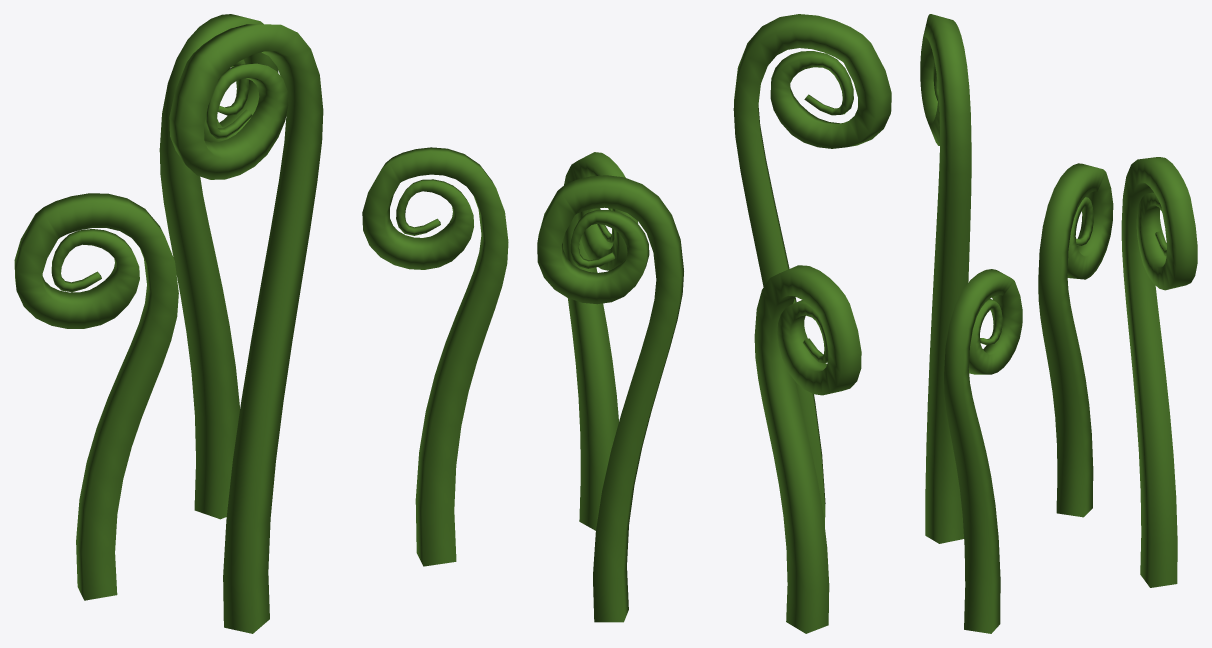
The model's file is Plant_3.gltf.
3 renders of one model, left to right at view 1: azimuth 30°, elevation 25°; view 2: azimuth 150°, elevation 25°; view 3: azimuth 270°, elevation 25°, orthographic. The views are drawn at different scales.
Visible parts, largest first — view 1: Plant_3; view 2: Plant_3; view 3: Plant_3.
Boxes of the visible parts, x1,y1,x2,y2 form: Plant_3: (14,14,508,633); Plant_3: (537,14,891,633); Plant_3: (920,14,1197,633).
Bounding box in the file's own units: 2.12 × 2.98 × 1.44.
Materials: 1 (1 with a texture image).
